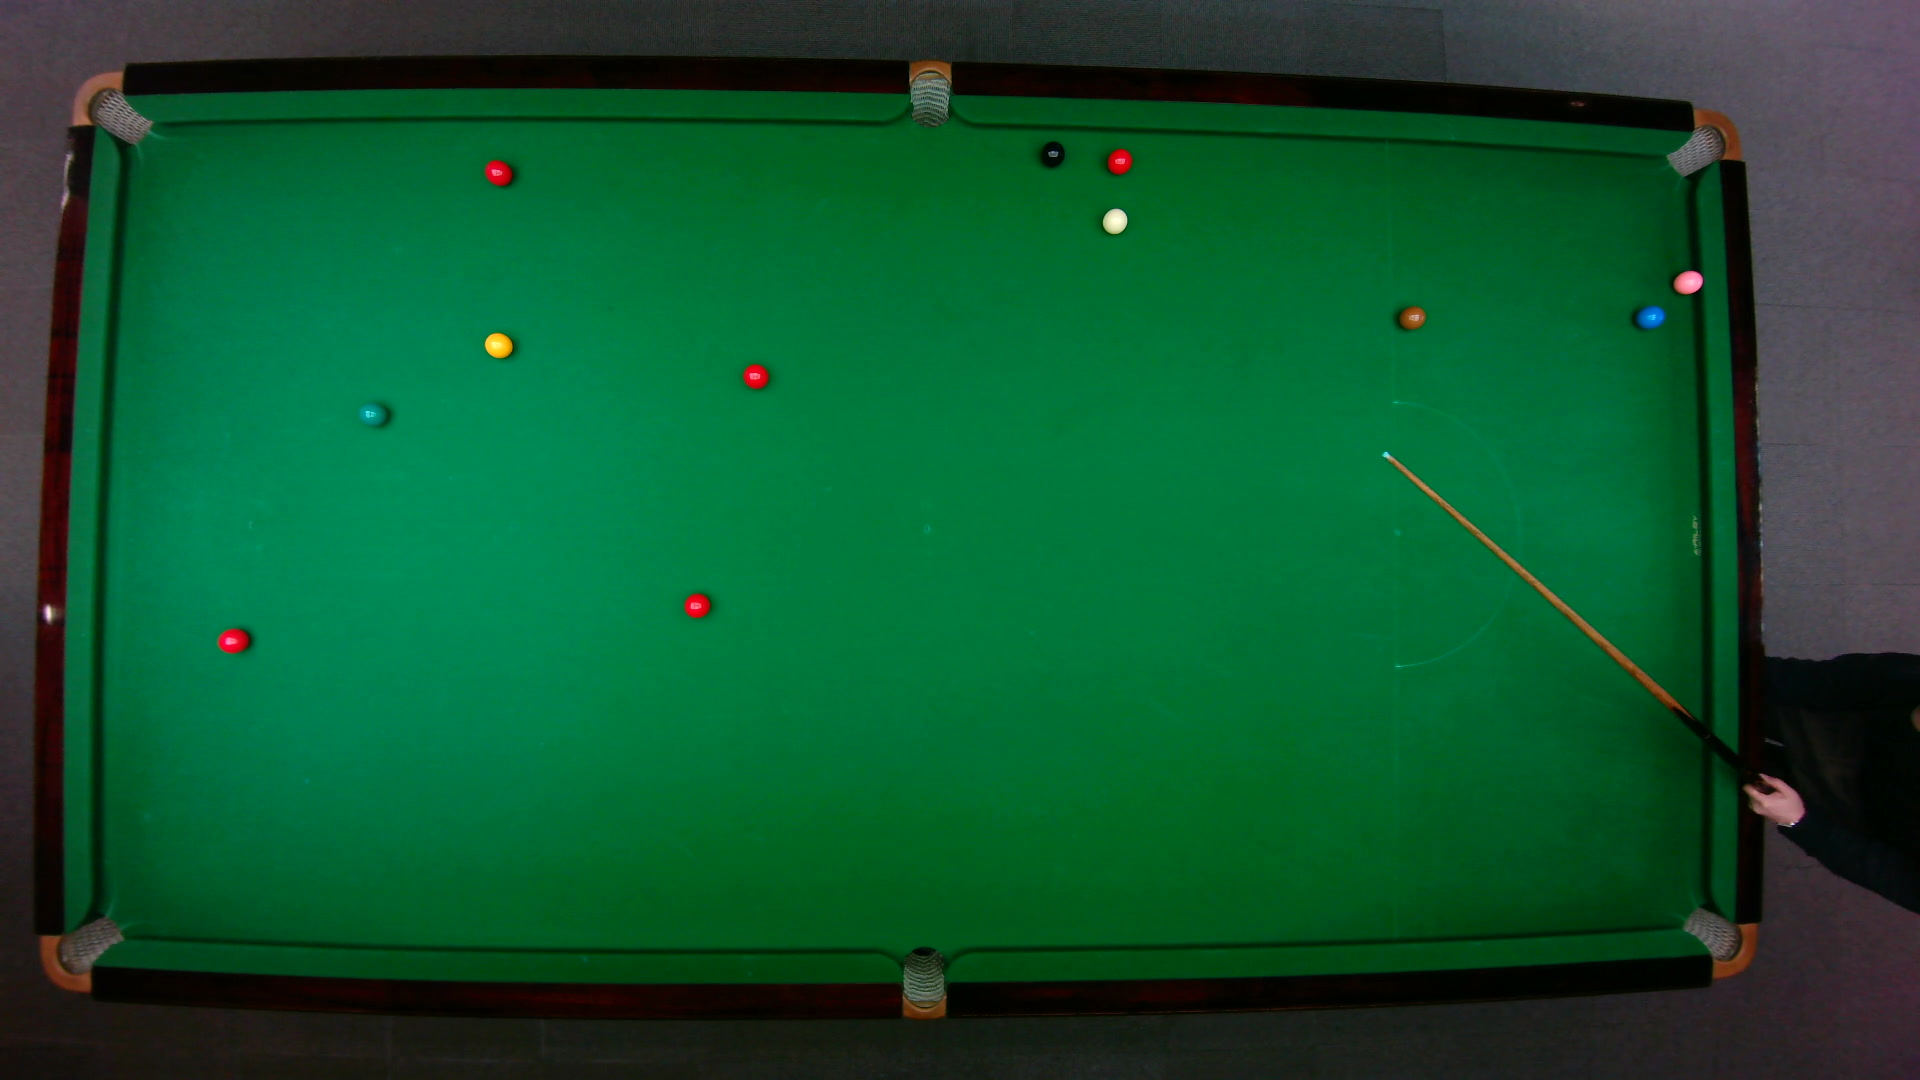bag: (37, 914, 125, 992), (69, 69, 153, 145), (1679, 905, 1758, 978), (1663, 107, 1741, 177), (901, 944, 944, 1021), (909, 58, 949, 128)
black: (1040, 141, 1063, 166)
blue: (1634, 303, 1665, 328)
brown: (1396, 305, 1427, 328)
cue: (1385, 438, 1789, 837)
green: (356, 400, 388, 427)
pink: (1669, 266, 1704, 295)
red: (216, 626, 251, 653), (483, 158, 513, 186), (1105, 146, 1133, 175), (682, 591, 709, 618), (741, 363, 767, 389)
white: (1098, 204, 1129, 235)
yellow: (483, 330, 514, 359)
zone: (1389, 401, 1519, 667)
